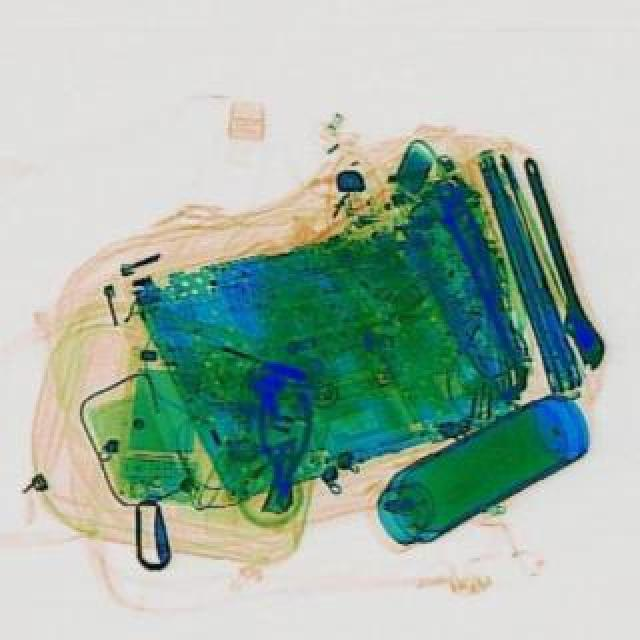scissors: (508, 150, 612, 372)
wrench: (254, 390, 312, 510)
